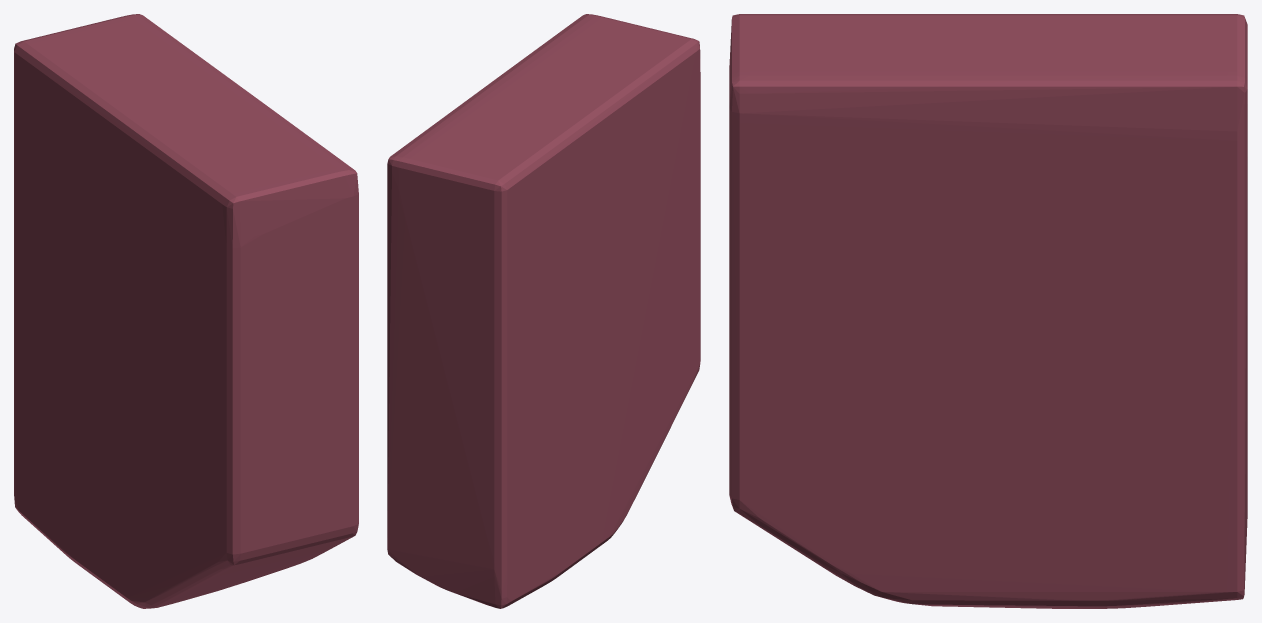
Rendered from right_f_proximal_part_13.obj.
3 views of the same model, side by side, from view 1: azimuth 30°, elevation 25°; view 2: azimuth 150°, elevation 25°; view 3: azimuth 270°, elevation 25° (orthographic). The views are drawn at different scales.
Bounding box in the file's own units: 5.29 × 18.3 × 15.31.
